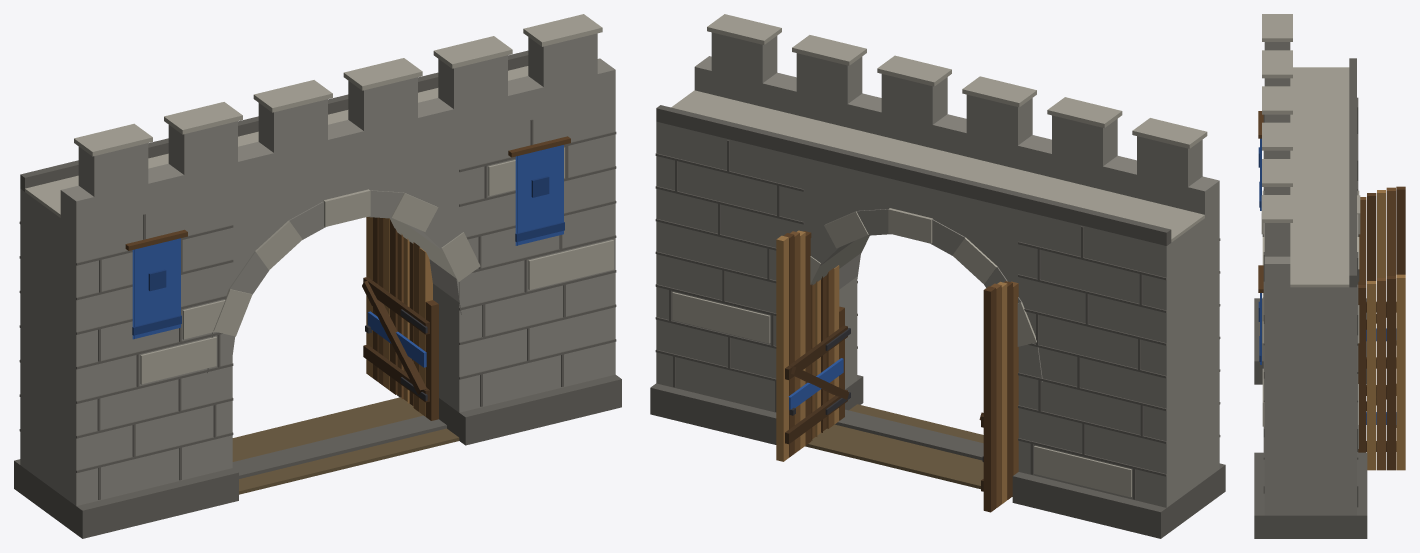
File: stone-gate-open.glb
3 views of the same model, side by side, from view 1: azimuth 30°, elevation 25°; view 2: azimuth 150°, elevation 25°; view 3: azimuth 270°, elevation 25° (orthographic). The views are drawn at different scales.
Parts seen in each view (by area): view 1: stone-gate-open; view 2: stone-gate-open; view 3: stone-gate-open.
Boxes of the visible parts, box(x1,y1,x2,y2) form: stone-gate-open: box(14, 14, 621, 538); stone-gate-open: box(650, 14, 1225, 538); stone-gate-open: box(1254, 14, 1405, 538).
Size of the model in its own units: 10 by 6.73 by 2.94.
1 material, 1 textured.
